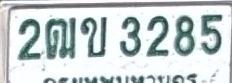2: (17, 18, 41, 60), (146, 14, 169, 56)
3: (119, 16, 141, 56)
5: (200, 13, 222, 55)
8: (173, 14, 195, 56)
A02: (80, 16, 107, 57)
A18: (44, 16, 77, 60)
